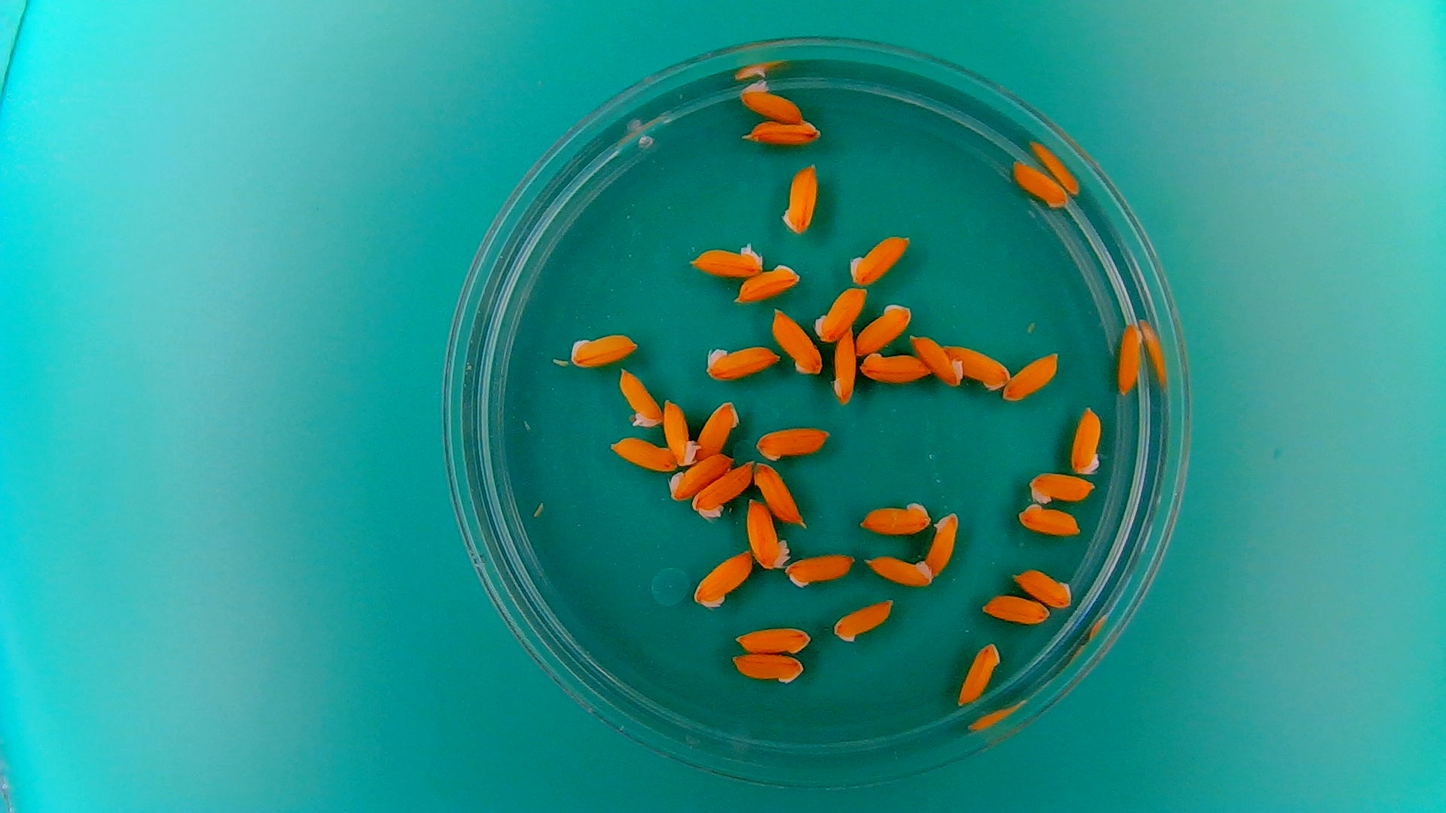no: (693, 340, 788, 387), (690, 547, 755, 610), (768, 306, 824, 378), (690, 458, 755, 519), (847, 230, 912, 288), (752, 458, 805, 527), (744, 497, 792, 571), (852, 300, 914, 357), (921, 504, 963, 587), (999, 349, 1062, 404), (667, 450, 734, 501), (944, 341, 1011, 391), (956, 638, 1002, 710), (812, 283, 868, 342), (685, 236, 767, 276), (908, 331, 966, 387), (1008, 157, 1069, 210), (737, 77, 806, 123), (779, 159, 820, 236), (752, 428, 835, 466), (733, 259, 803, 304), (830, 596, 895, 644), (694, 396, 742, 459), (856, 496, 933, 535), (783, 550, 857, 590), (617, 366, 663, 430), (566, 330, 640, 369), (661, 394, 700, 467), (863, 551, 937, 589), (607, 434, 678, 473), (1012, 565, 1075, 608), (730, 649, 807, 684), (1068, 402, 1103, 477), (734, 623, 813, 656), (1015, 501, 1083, 539), (978, 591, 1048, 626), (1027, 469, 1097, 504), (857, 350, 929, 384), (1115, 318, 1144, 397), (830, 326, 858, 407), (744, 117, 822, 146)
